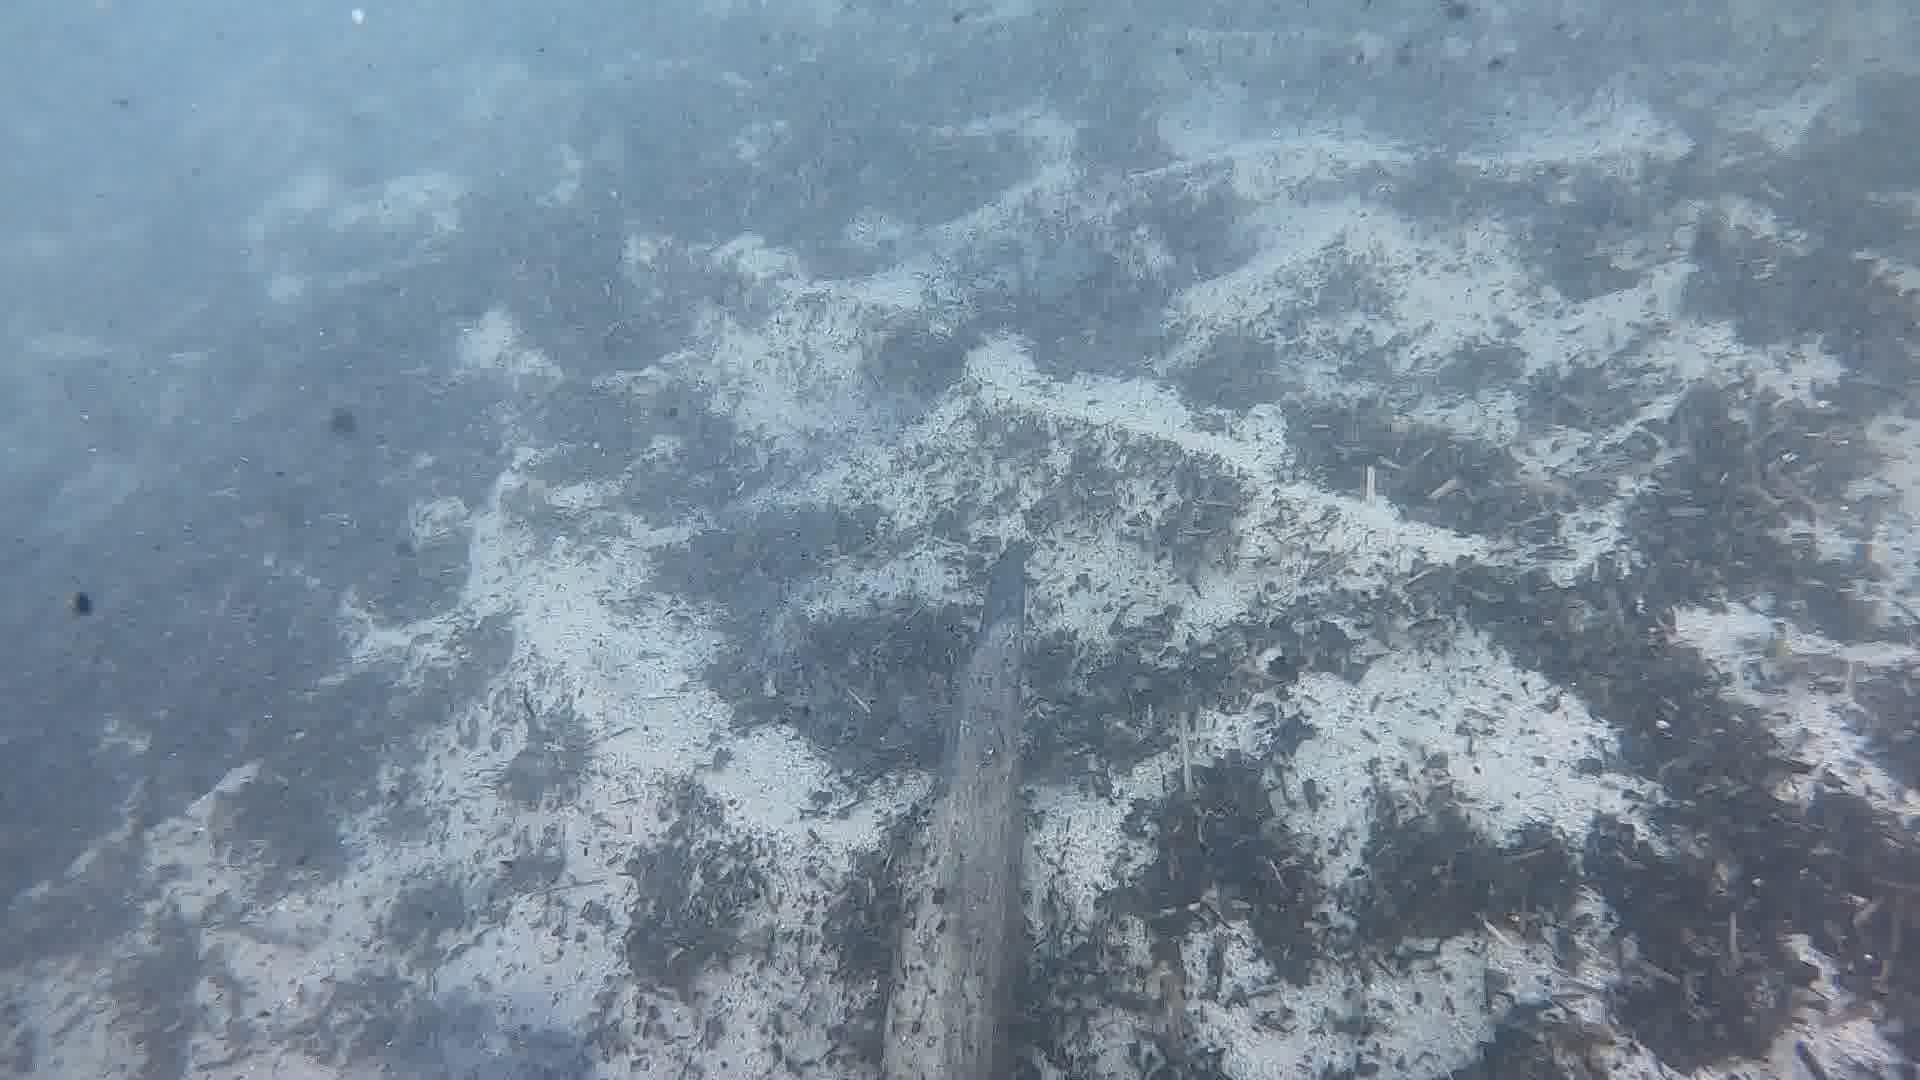wood: (940, 537, 1025, 1080)
